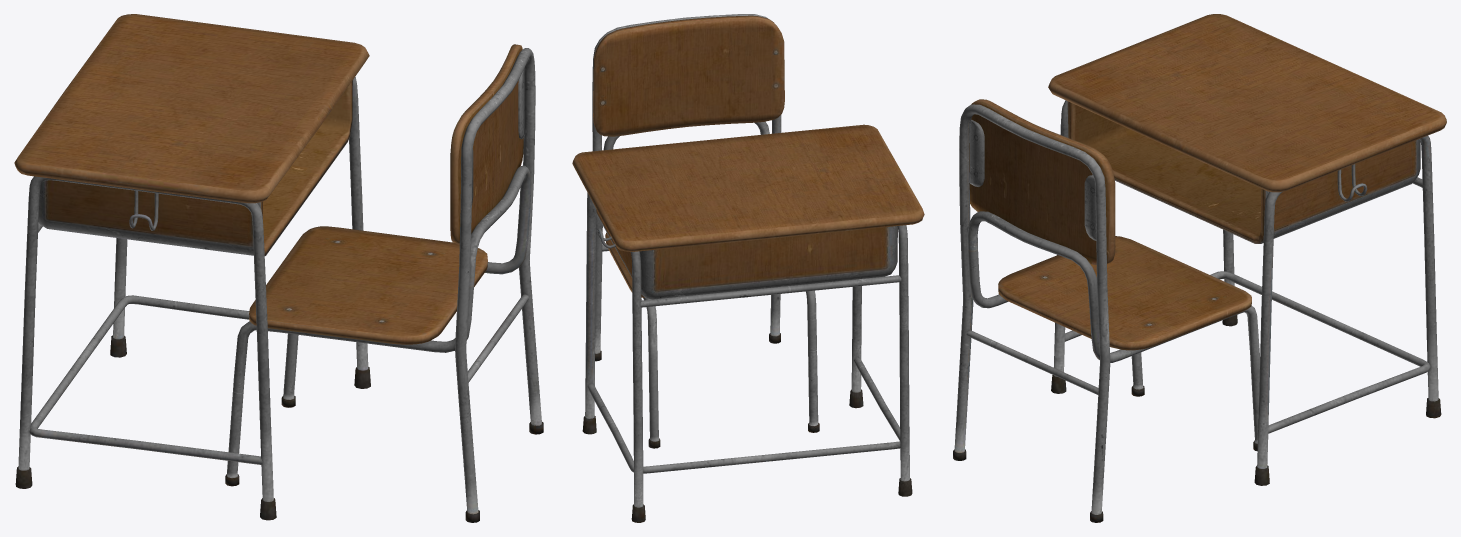
File: school-desk.glb
The picture shows the model from 3 angles, left to right: view 1: azimuth 30°, elevation 25°; view 2: azimuth 150°, elevation 25°; view 3: azimuth 270°, elevation 25°; orthographic projection. The views are drawn at different scales.
Parts seen in each view (by area): view 1: DeskWood_L, ChairWood_L, ChairMetal_L, DeskMetal_L; view 2: DeskWood_L, ChairWood_L, DeskMetal_L, ChairMetal_L; view 3: DeskWood_L, ChairWood_L, ChairMetal_L, DeskMetal_L.
Part boxes in pixels (x1,y1,x2,y2): DeskWood_L: [14, 14, 369, 255]; ChairWood_L: [249, 44, 523, 344]; ChairMetal_L: [225, 48, 543, 522]; DeskMetal_L: [15, 77, 370, 520]; DeskWood_L: [572, 124, 924, 299]; ChairWood_L: [593, 15, 784, 297]; DeskMetal_L: [582, 192, 912, 522]; ChairMetal_L: [592, 14, 819, 448]; DeskWood_L: [1048, 14, 1446, 243]; ChairWood_L: [969, 99, 1251, 350]; ChairMetal_L: [953, 104, 1259, 522]; DeskMetal_L: [1051, 100, 1441, 485].
Size of the model in its own units: 146 by 120 by 148.
Materials: 1 (1 with a texture image).
